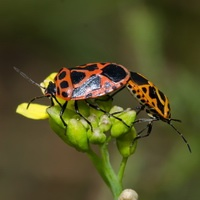insect: (13, 63, 191, 199), (13, 63, 130, 126), (126, 72, 191, 151), (111, 86, 141, 109)
